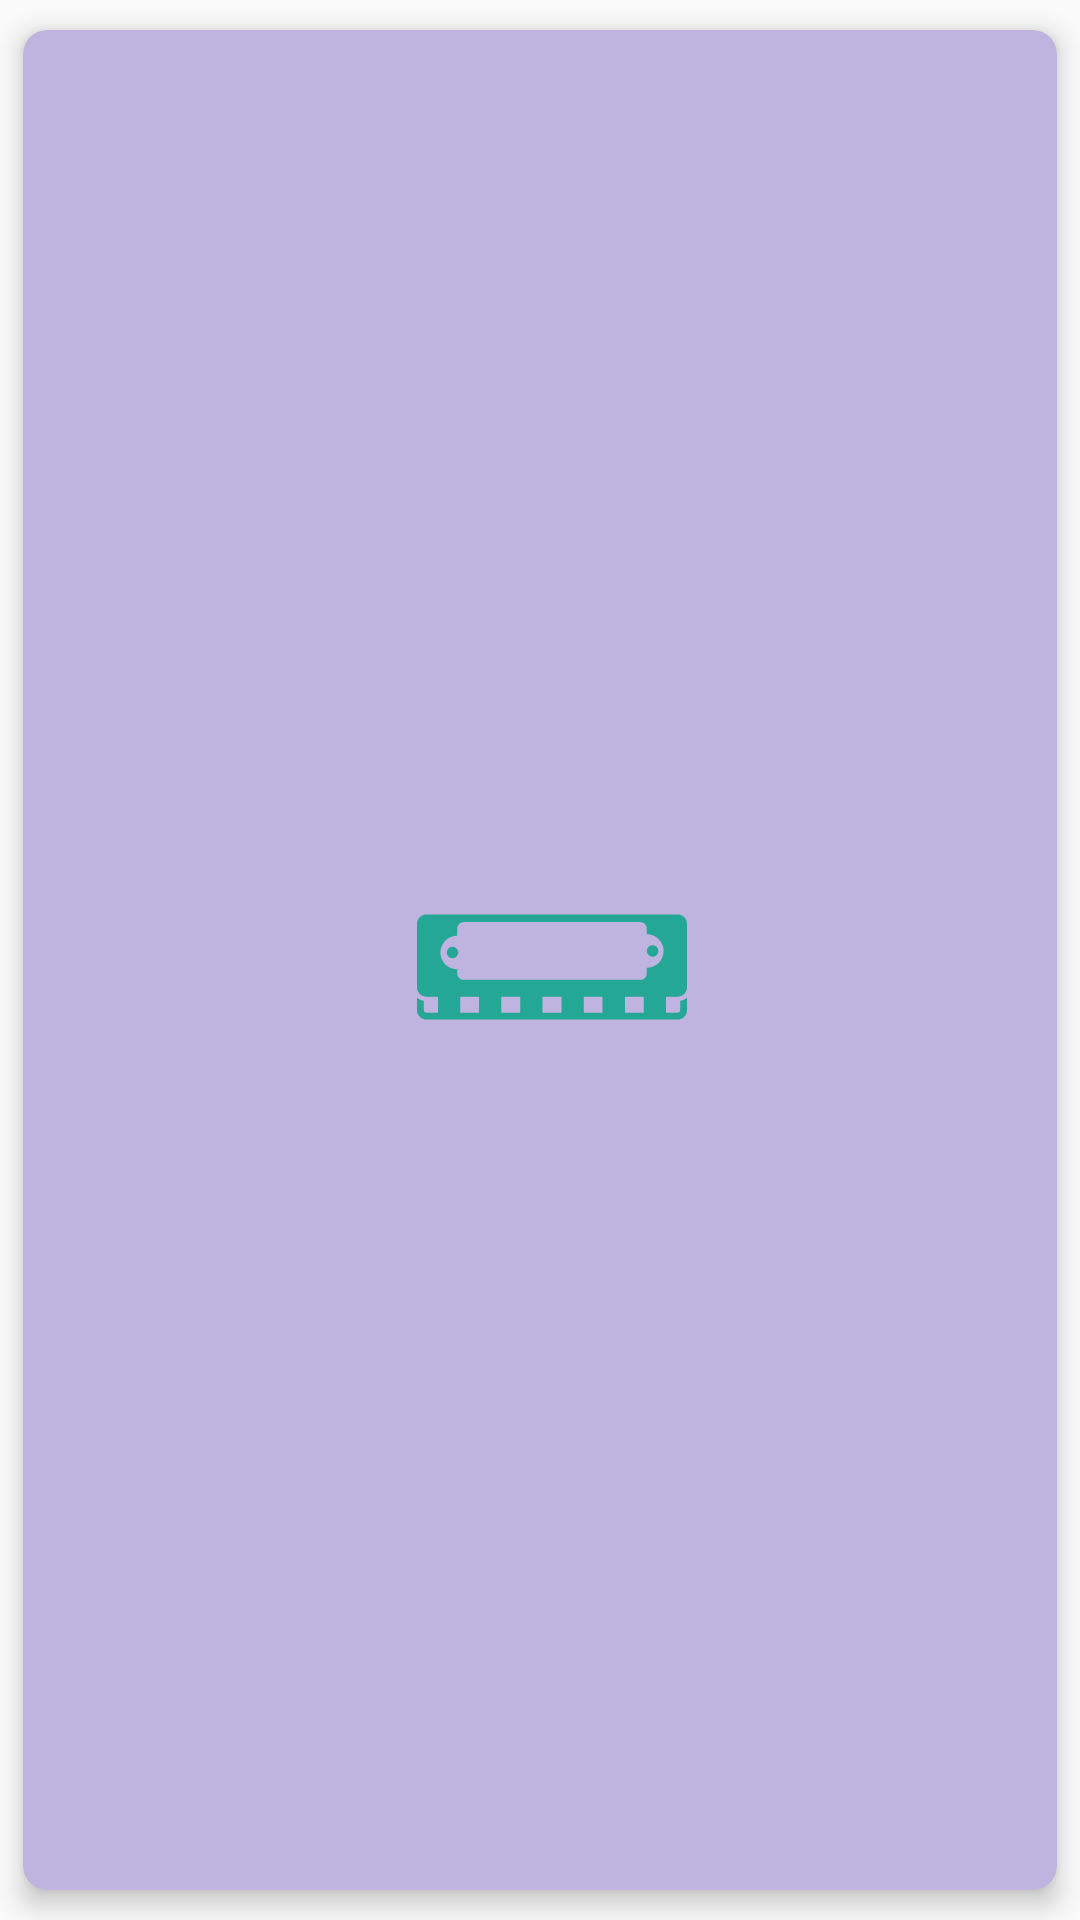

Icons on this 1080 × 1920 Android screen, each with its box as (x1, y1, x2, y2):
armonica: (417, 914, 687, 1020)
